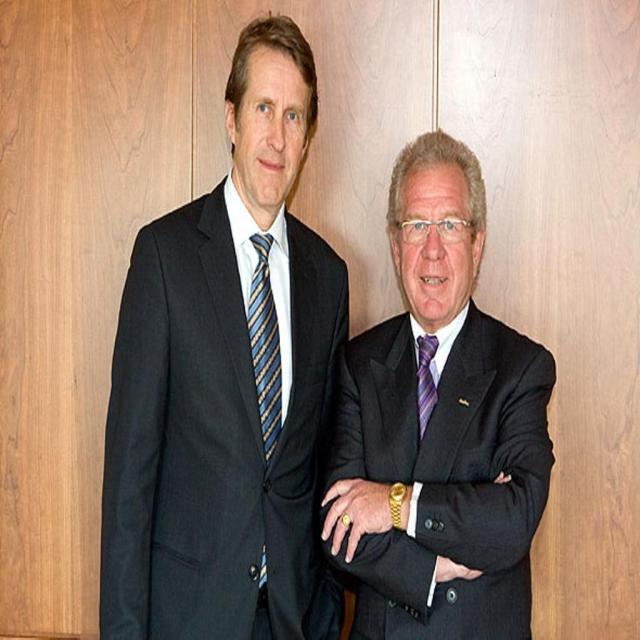Face: (390, 153, 484, 334), (236, 38, 320, 213)
